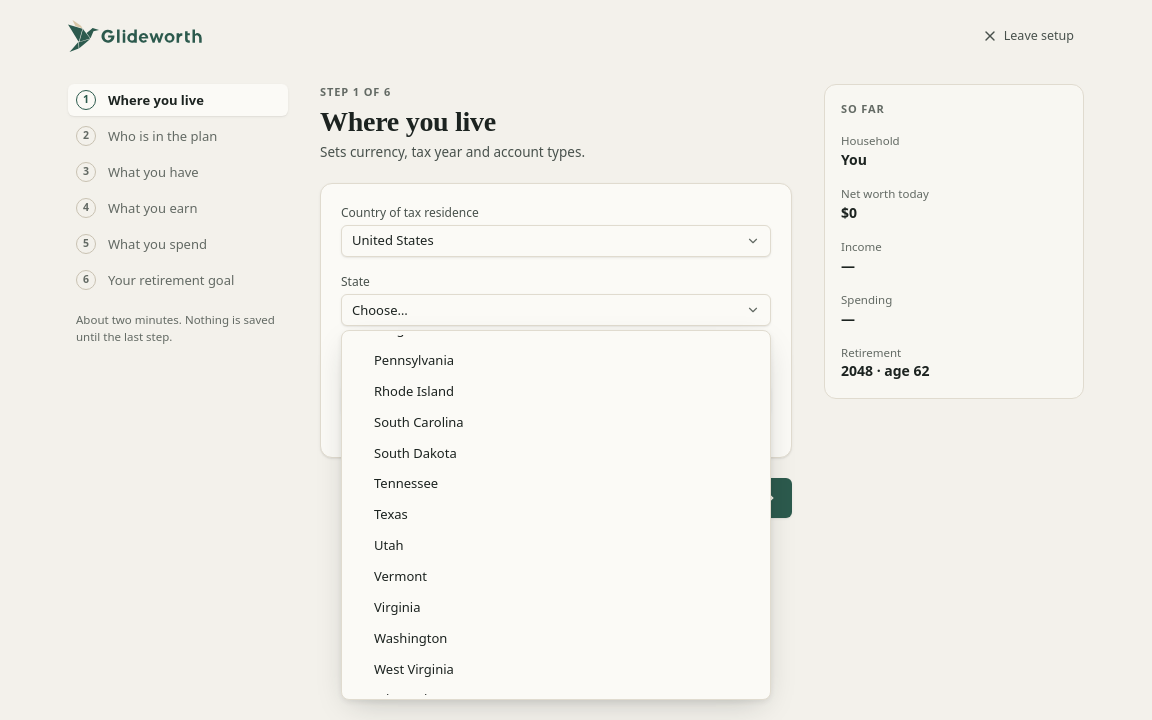
Test: cloud › the guided setup tab title follows each step's heading (issue #60)
The image size is (1152, 720).
Earlier steps of the test are not shown.
(page scrolled)
Click the option "Texas".
click(391, 514)  # box [374,505,408,523]
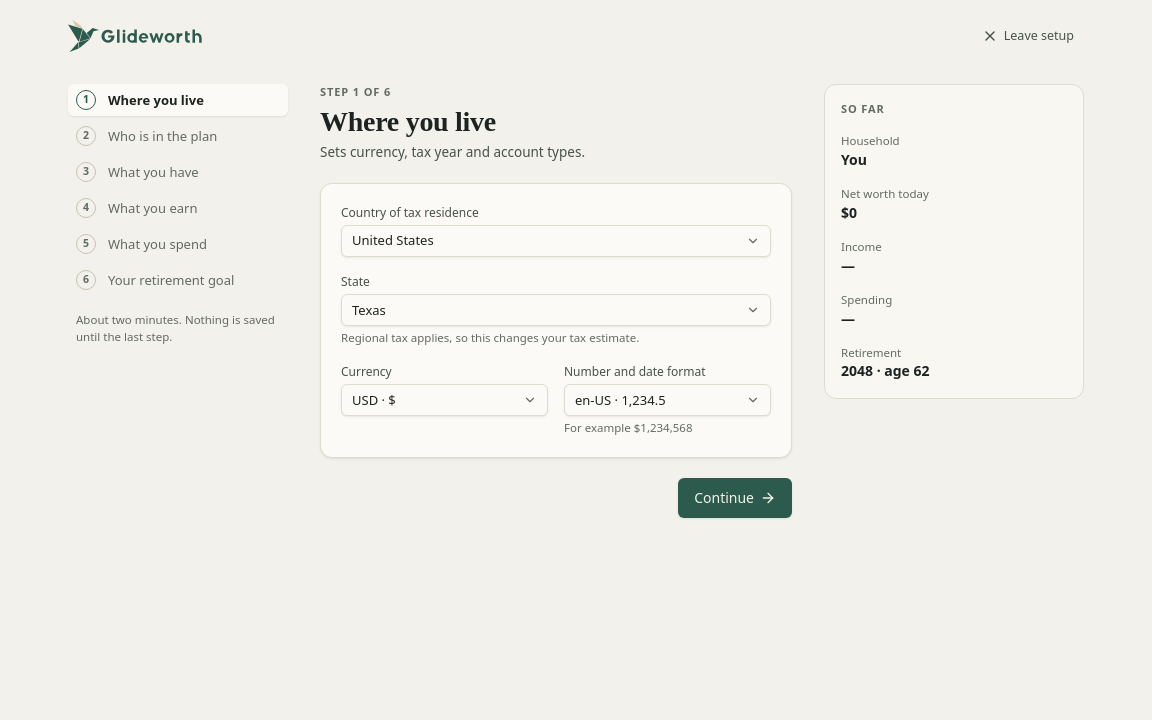
Click the button "Continue".
click(735, 498)  # box [678,478,792,518]
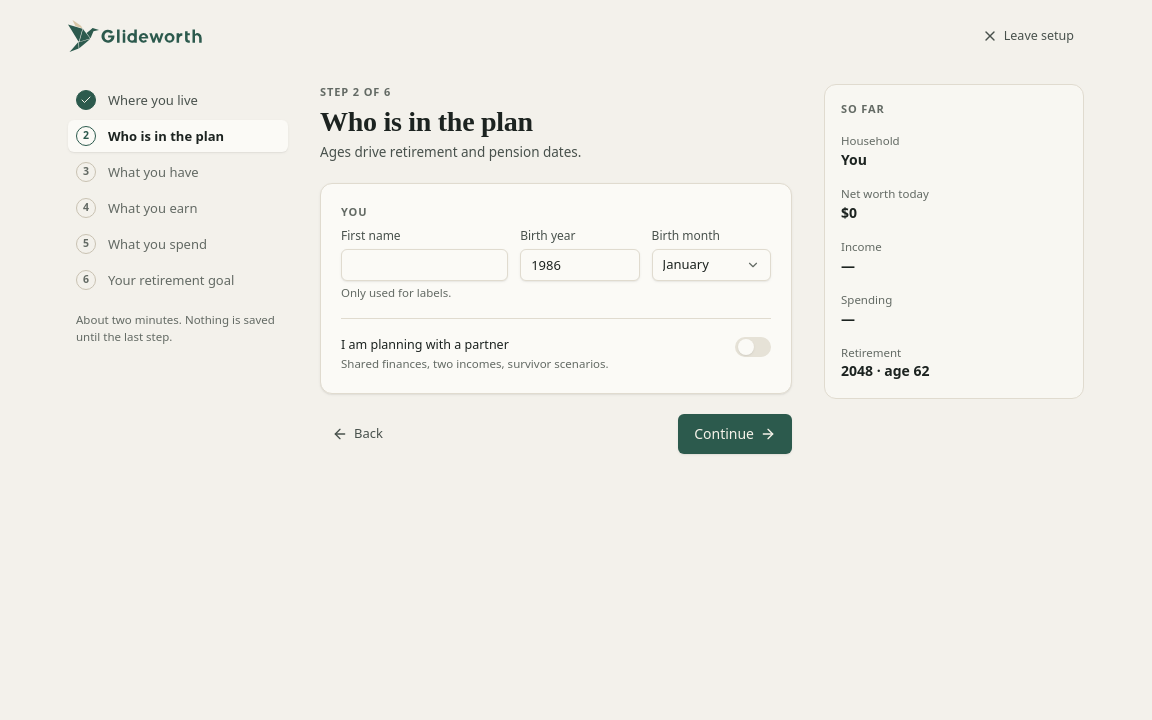
Expected: the heading "Who is in the plan" is shown, [320,106,533,137]
Type "Robin" into the field labelled "First name".
click(425, 265); type("Robin")  # box [341,249,508,281]
Click the button "Continue".
click(735, 434)  # box [678,414,792,454]
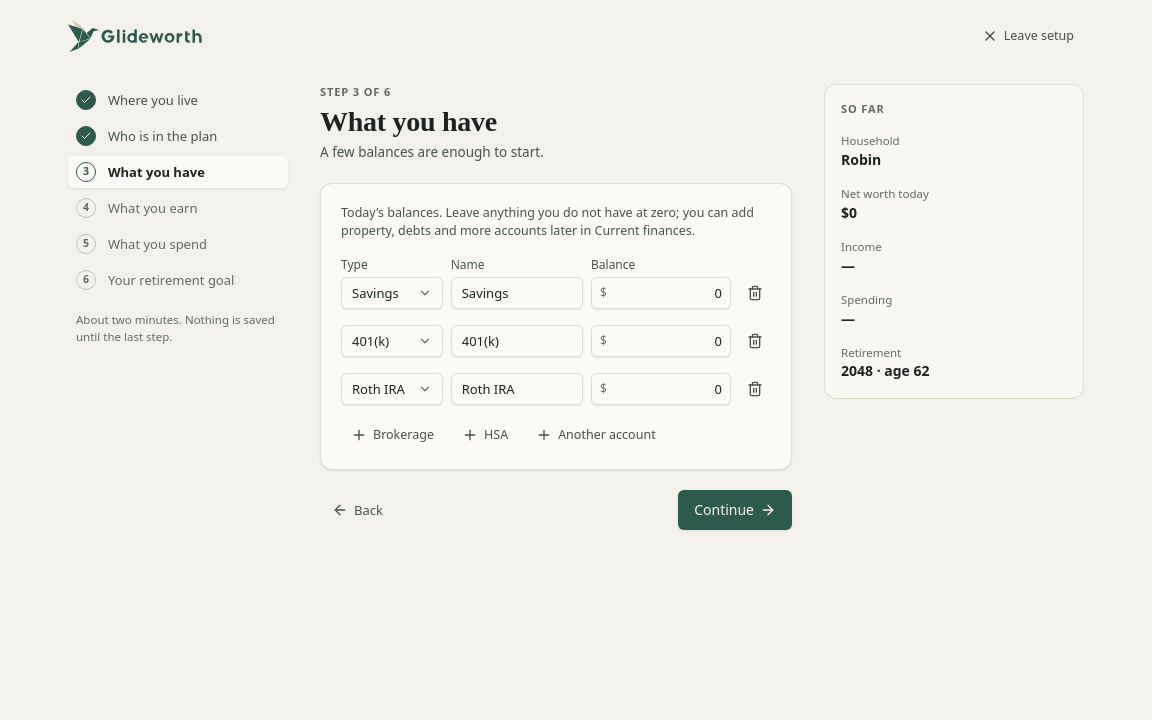
Expected: the heading "What you have" is shown, [320,106,497,137]
Click the button "Continue".
click(735, 510)  # box [678,490,792,530]
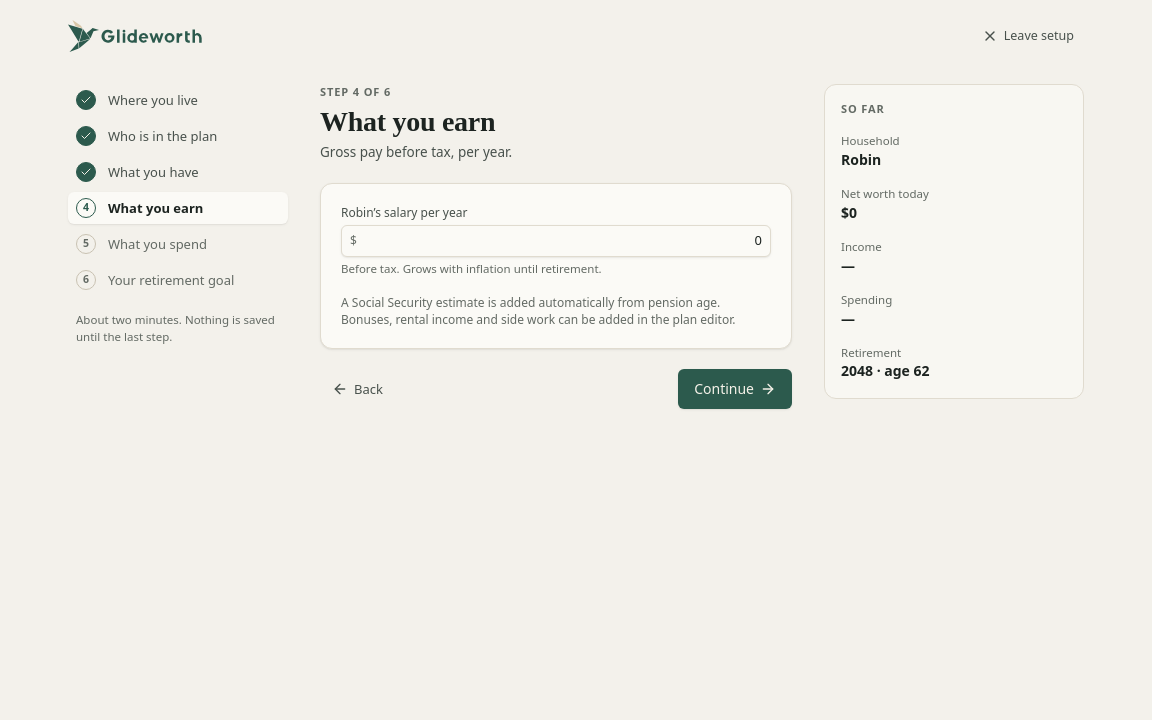
Expected: the heading "What you earn" is shown, [320,106,495,137]
Click the button "Continue".
click(735, 389)  # box [678,369,792,409]
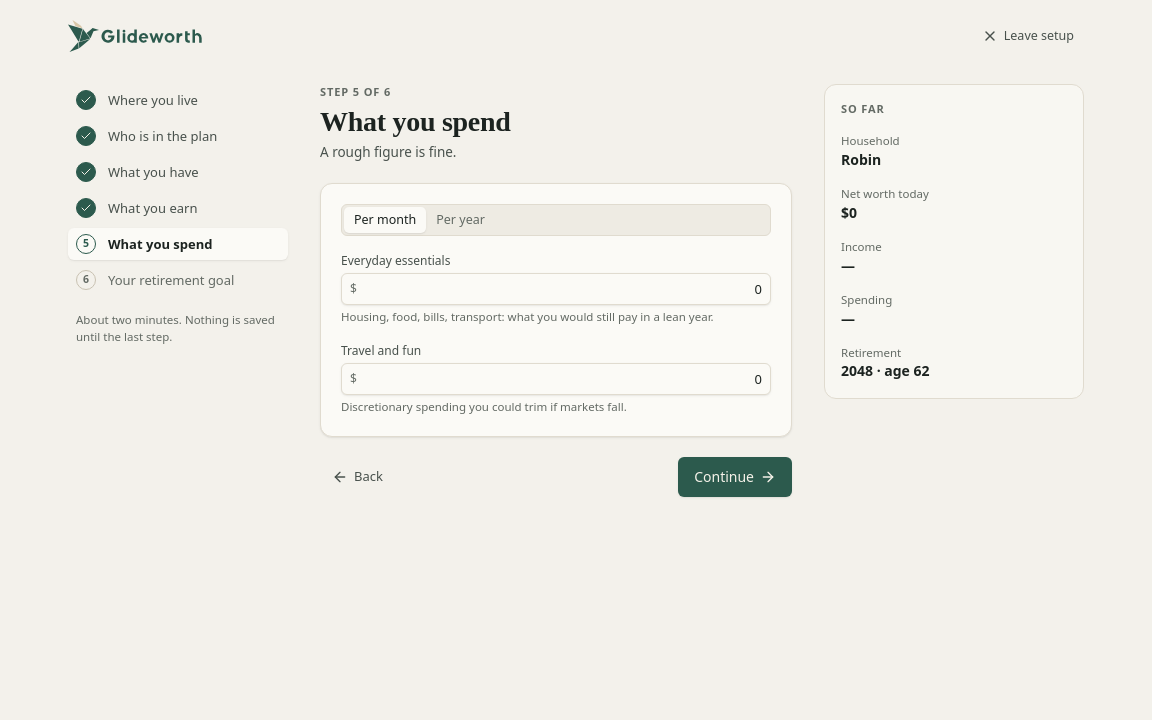
Expected: the heading "What you spend" is shown, [320,106,511,137]
Click the button "Continue".
click(735, 477)  # box [678,457,792,497]
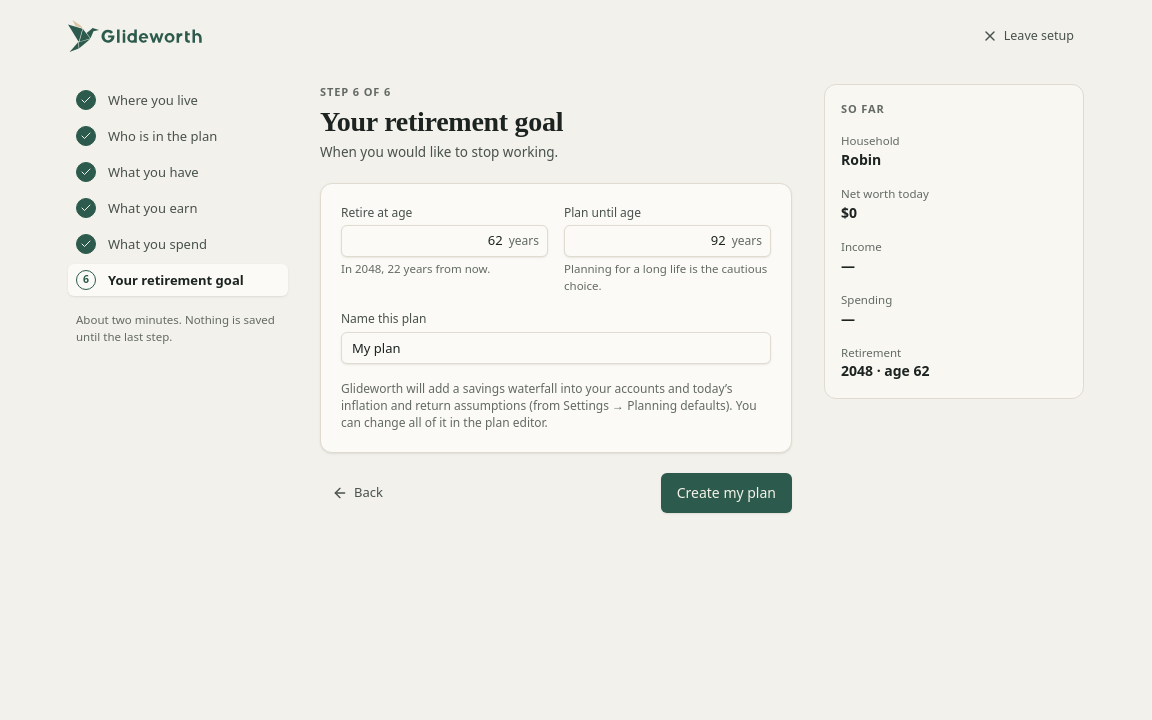
Expected: the heading "Your retirement goal" is shown, [320,106,563,137]
